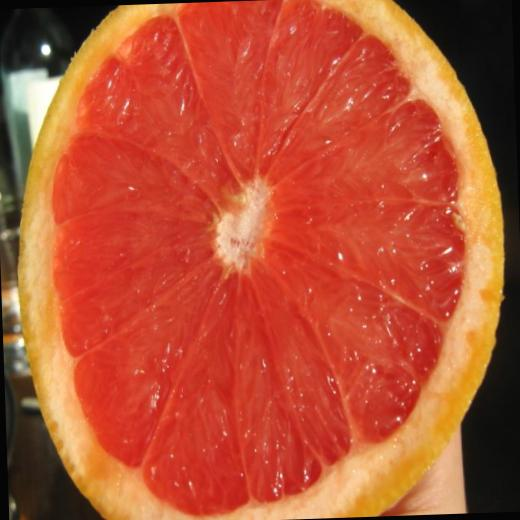Grape: (26, 6, 503, 516)
